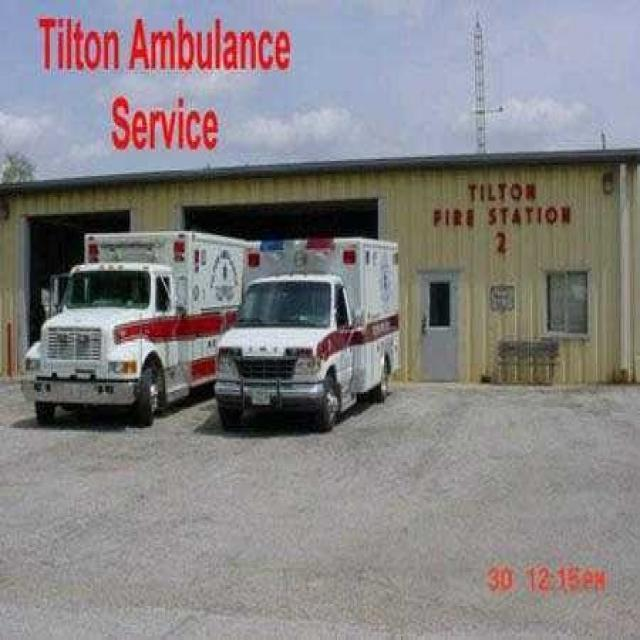emergency-vehicle: (21, 227, 259, 418), (212, 233, 407, 432)
